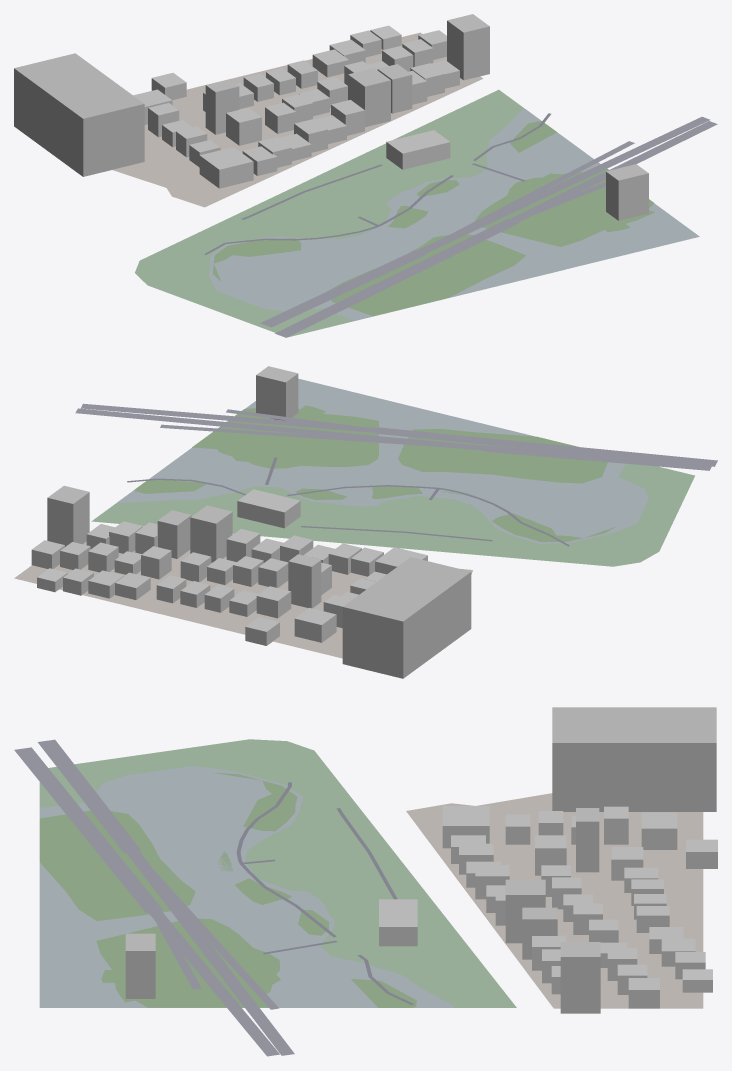
Rendered from 114_81_mid.glb.
The picture shows the model from 3 angles, top to bottom: view 1: azimuth 30°, elevation 25°; view 2: azimuth 150°, elevation 25°; view 3: azimuth 270°, elevation 25°; orthographic projection. The views are drawn at different scales.
Bounding box in the file's own units: 597 × 57.48 × 530.
